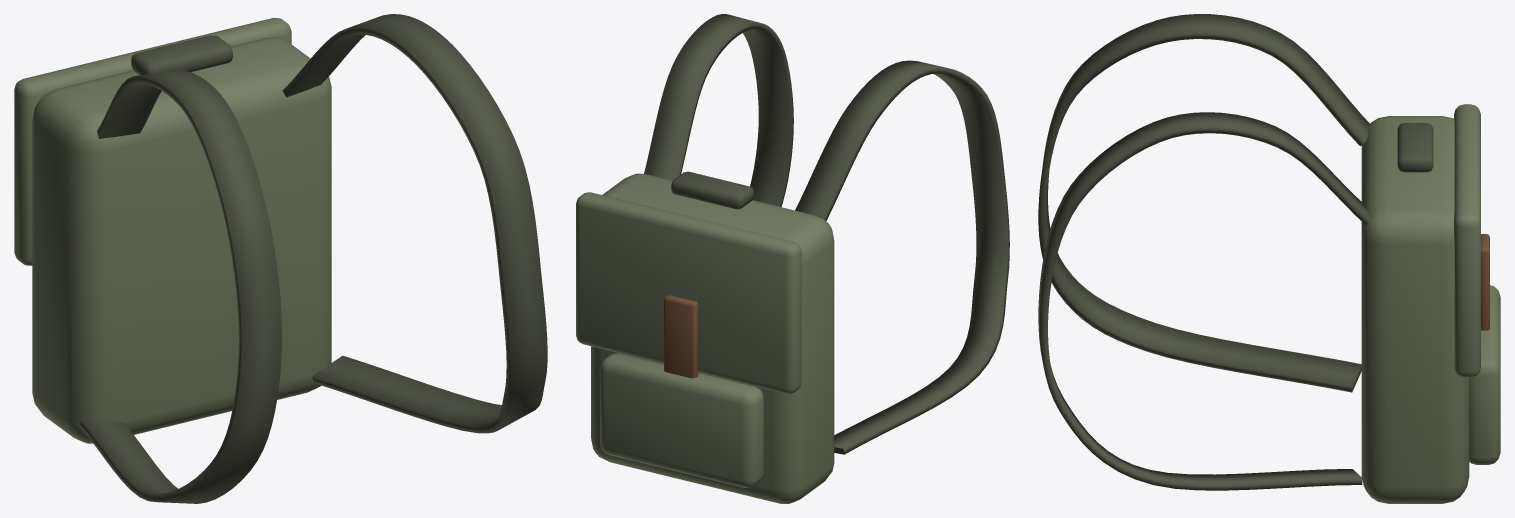
Rendered from backpack.glb.
The picture shows the model from 3 angles, left to right: view 1: azimuth 30°, elevation 25°; view 2: azimuth 150°, elevation 25°; view 3: azimuth 270°, elevation 25°; orthographic projection. The views are drawn at different scales.
Visible parts, largest first — view 1: Backpack; view 2: Backpack; view 3: Backpack.
Boxes of the visible parts, left/top/right/bottom form: Backpack: left=14, top=14, right=547, bottom=503; Backpack: left=576, top=14, right=1009, bottom=503; Backpack: left=1038, top=14, right=1500, bottom=503.
Bounding box in the file's own units: 0.4167 × 0.4753 × 0.5161.
